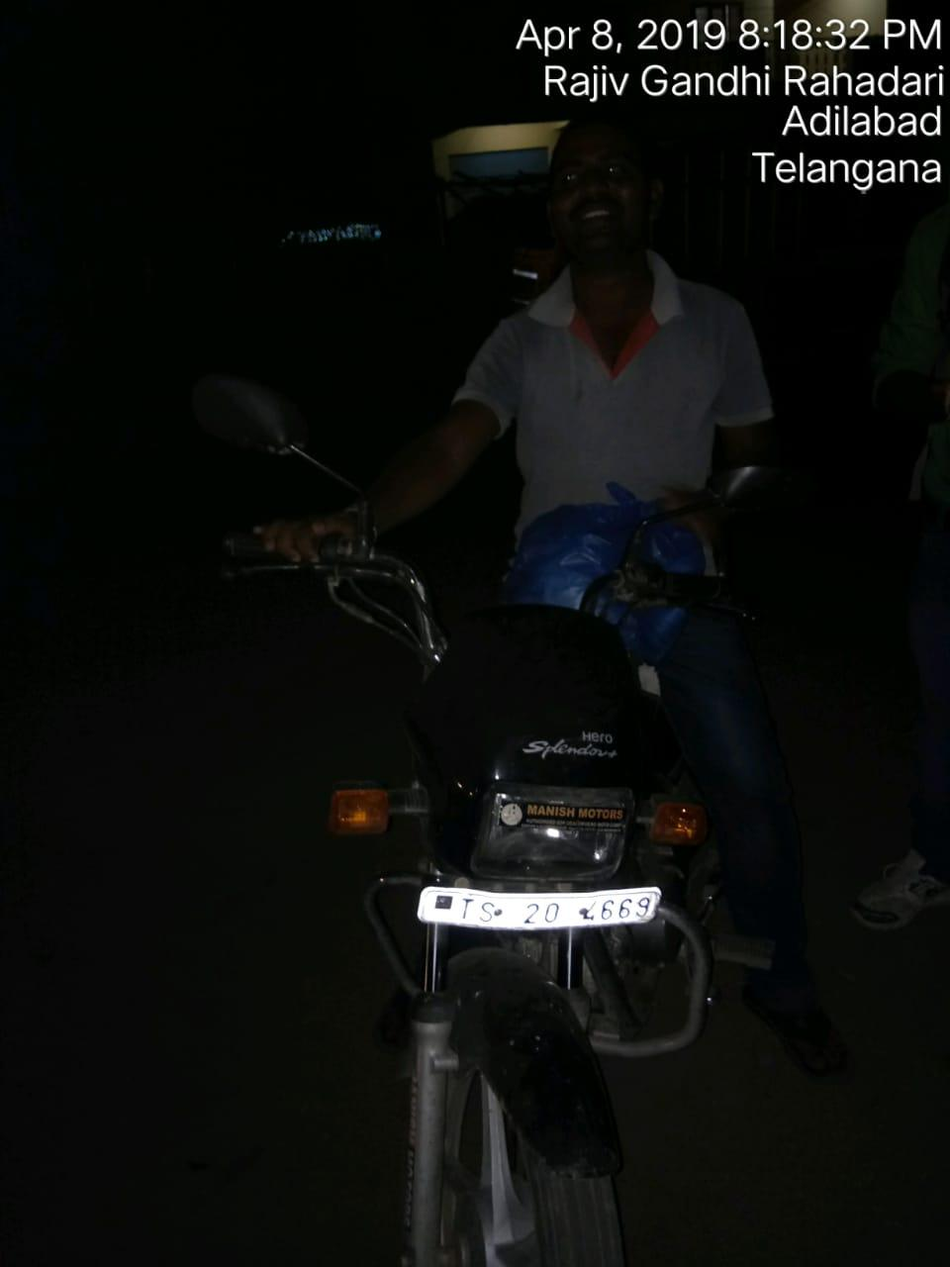plate: (394, 864, 684, 966)
